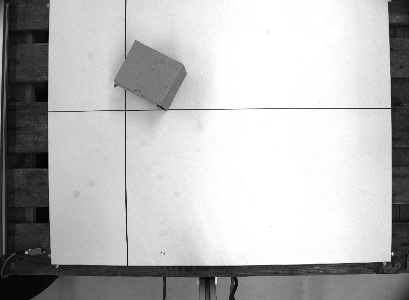b5: (111, 37, 192, 117)
